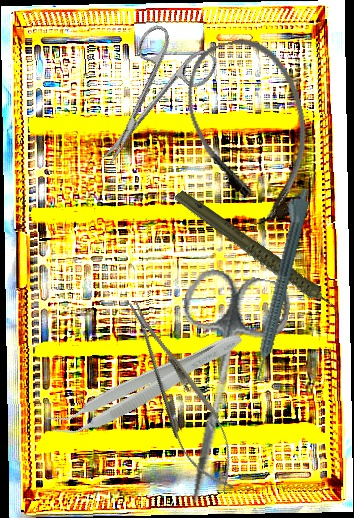Cannula: (173, 27, 330, 235)
Handpiece: (172, 161, 344, 351), (243, 185, 313, 382)
Iris Scissors: (146, 265, 295, 514), (71, 16, 222, 183)
Needle Holder: (110, 289, 252, 501)
Tissue Forceps: (45, 318, 247, 449)
